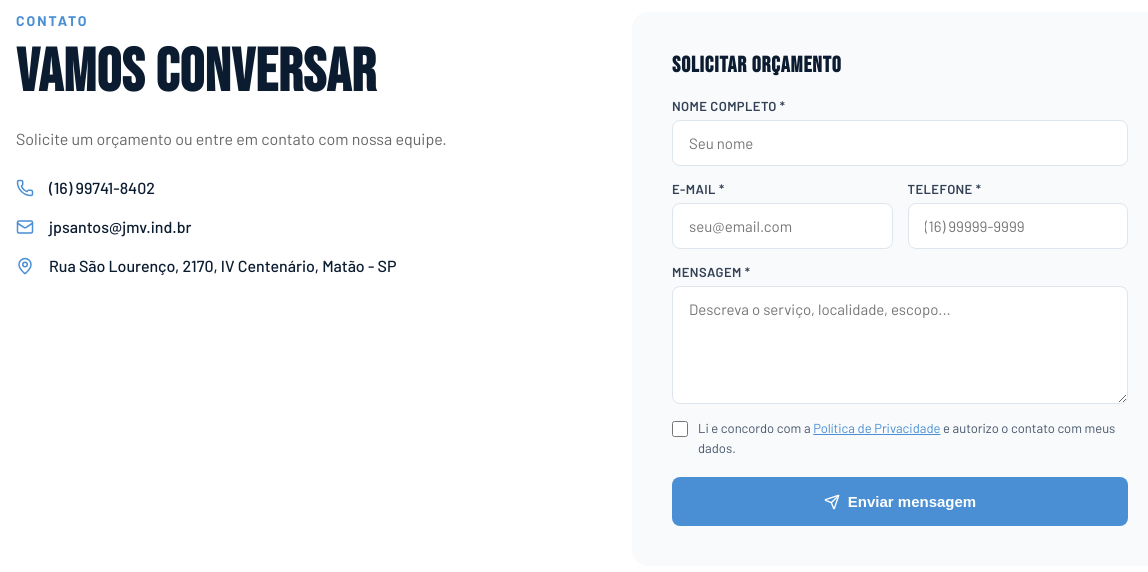
Scenario: Contact — submit › exibe mensagem de erro quando o servidor falha
In the field labelled "Nome completo *": (900, 143) [672,120,1128,166], type "João Silva"
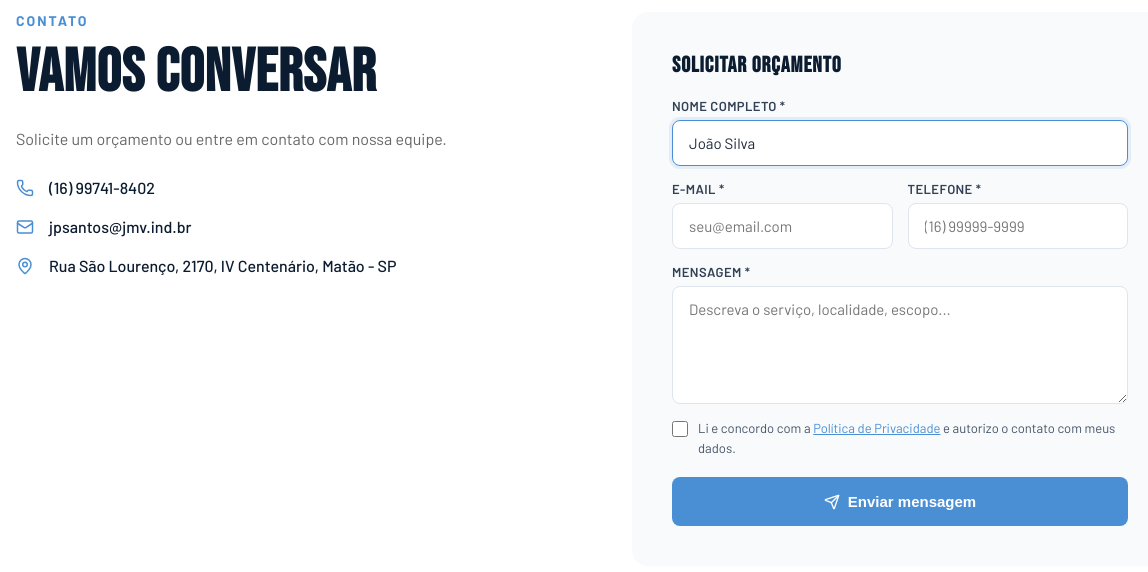
In the field labelled "E-mail *": (782, 226) [672,203,892,249], type "joao@teste.com"
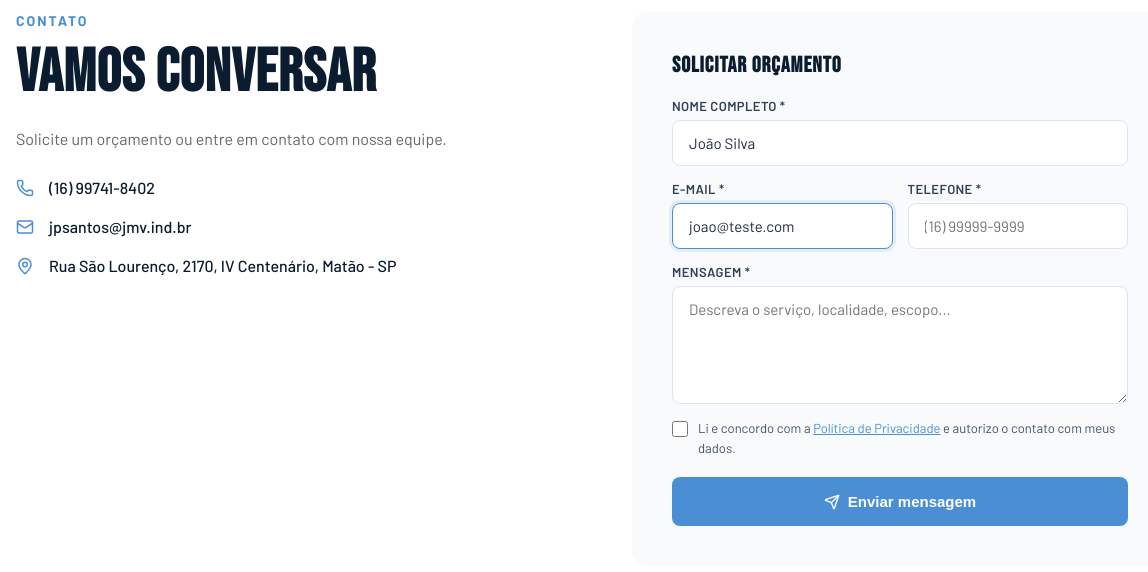
In the field labelled "Telefone *": (1018, 226) [908,203,1128,249], type "16999999999"
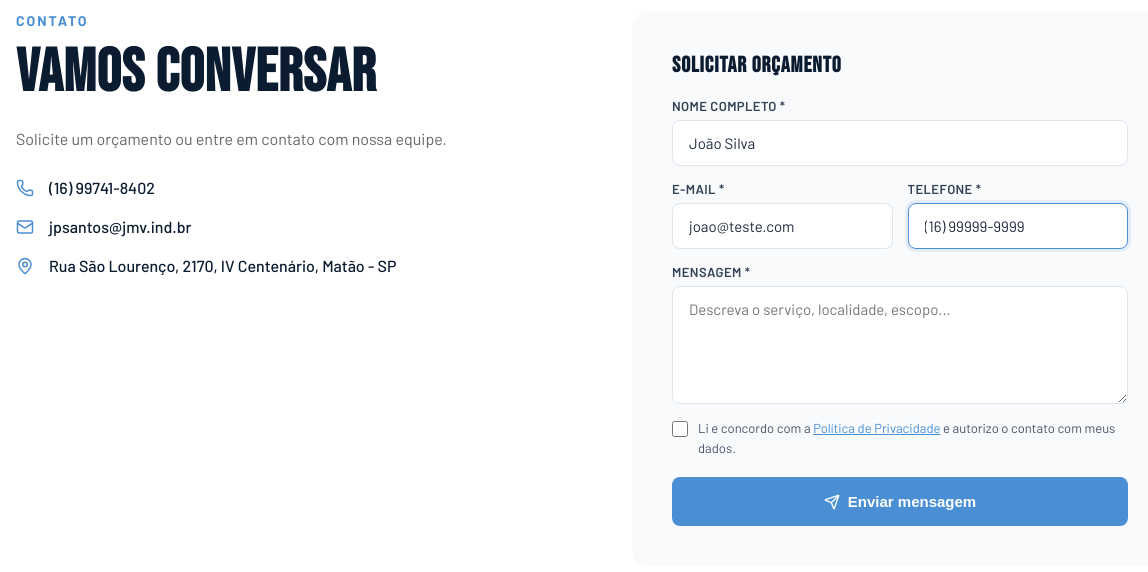
In the text box labelled "Mensagem *": (900, 345) [672,286,1128,404], type "Preciso de um orçamento"
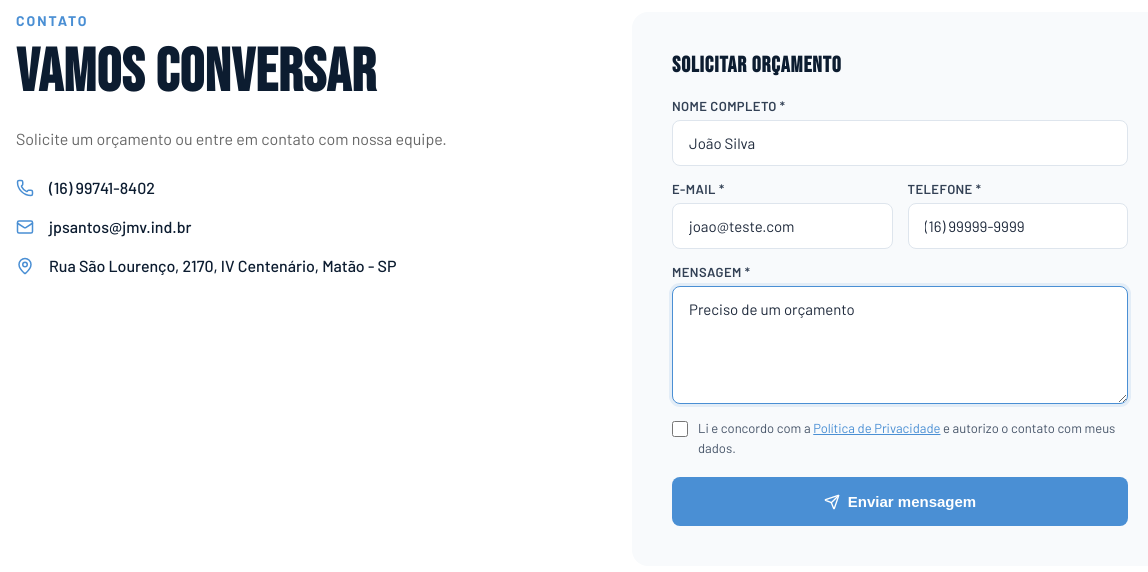
Click the checkbox: (680, 429) [672,421,688,437]
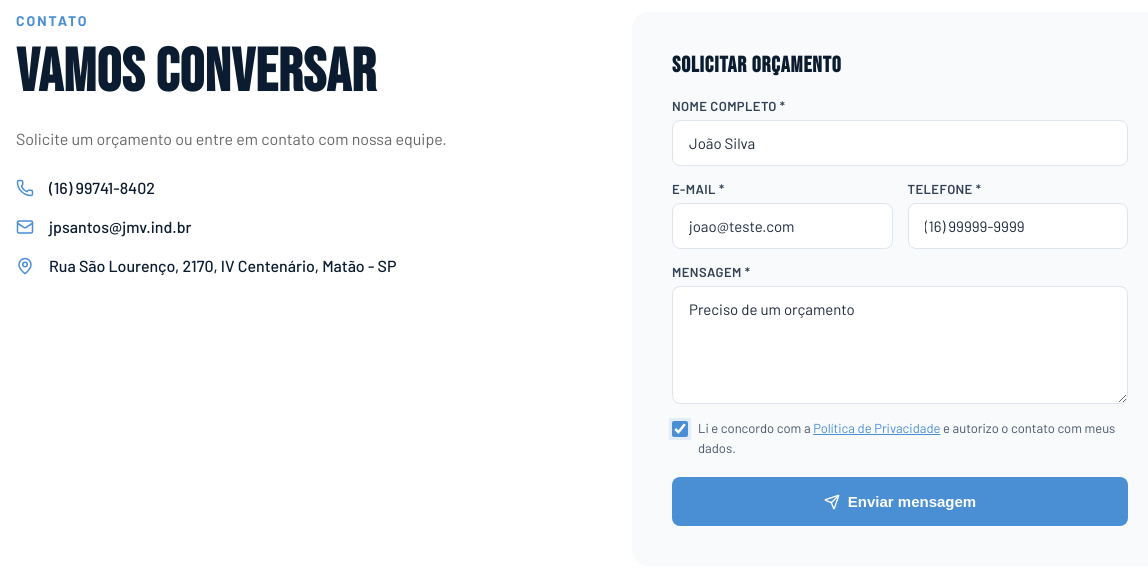
Click the button "Enviar mensagem": (900, 502) [672,477,1128,526]
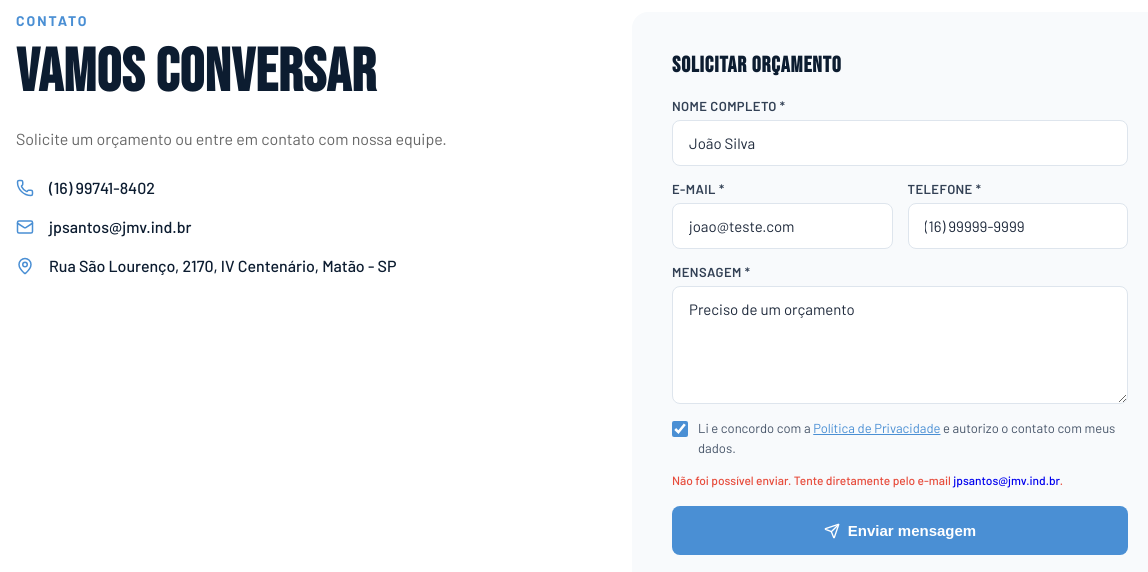
Expected: the text "Não foi possível enviar" is shown, [672,473,951,487]
